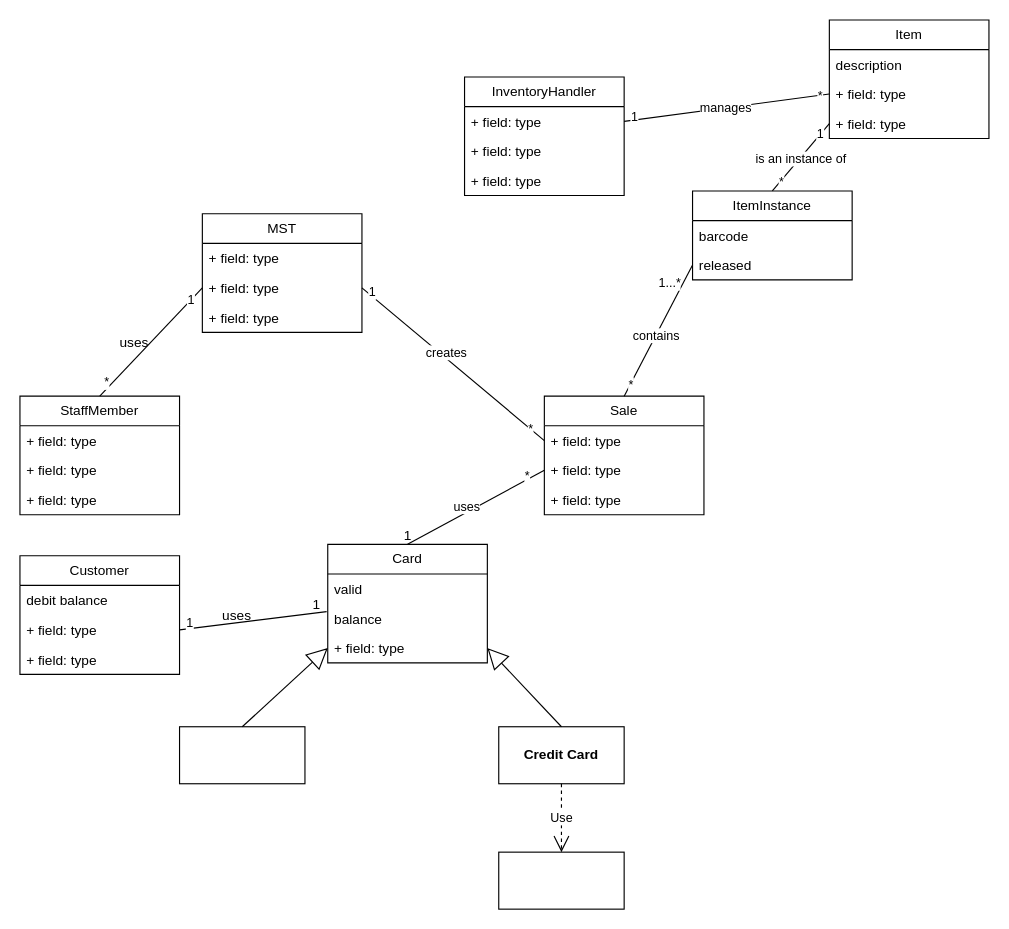
The diagram is 1009 pixels wide and 929 high, and some of its shapes have lost their labels. The centre of each missing label's shape, as x and y in pixels:
"Store Card" goes at point (241, 755).
"«interface» CreditAgency" goes at point (561, 880).
